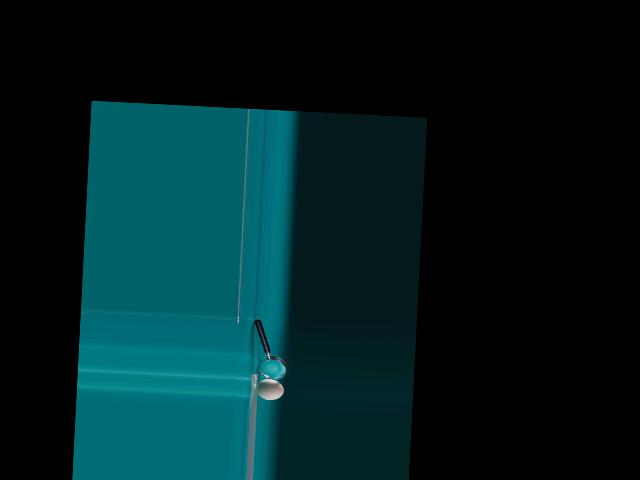egg: (256, 378, 284, 401)
